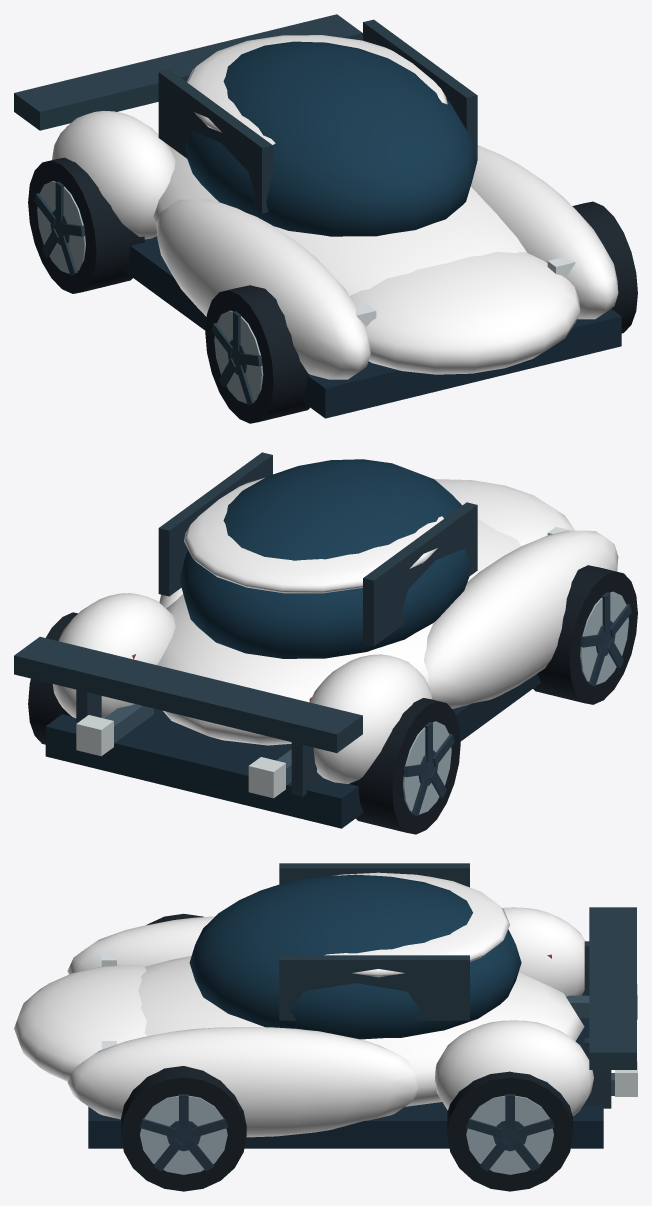
Rendered from ot-coupe.glb.
The picture shows the model from 3 angles, top to bottom: view 1: azimuth 30°, elevation 25°; view 2: azimuth 150°, elevation 25°; view 3: azimuth 270°, elevation 25°; orthographic projection. The views are drawn at different scales.
Visible parts, largest first — view 1: paint, details, wheel-0, wheel-2, wheel-1; view 2: details, paint, wheel-2, wheel-0, wheel-3; view 3: paint, details, wheel-1, wheel-3.
Part boxes in pixels (box(x1,y1,x2,y2)): paint: box(52, 35, 618, 379); details: box(14, 14, 621, 418); wheel-0: box(205, 285, 310, 423); wheel-2: box(28, 157, 144, 293); wheel-1: box(572, 201, 637, 333); details: box(14, 452, 570, 828); paint: box(52, 478, 618, 783); wheel-2: box(349, 698, 460, 834); wheel-0: box(533, 565, 637, 704); wheel-3: box(28, 612, 77, 744); paint: box(14, 872, 593, 1137); details: box(88, 863, 637, 1148); wheel-1: box(121, 1066, 246, 1191); wheel-3: box(447, 1071, 572, 1191).
Size of the model in its own units: 2.07 by 1.26 by 3.27.
